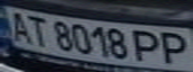0: (69, 21, 90, 55)
1: (87, 24, 109, 57)
8: (48, 18, 75, 52), (106, 25, 130, 61)
A: (3, 8, 33, 43)
P: (154, 29, 193, 65), (130, 27, 166, 63)
T: (21, 12, 51, 46)
